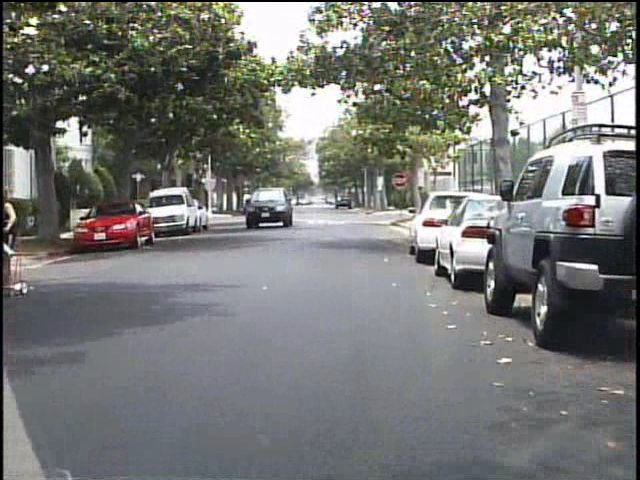person: (4, 184, 29, 298)
